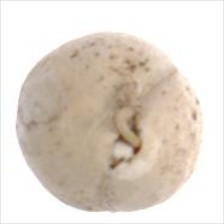L3: (106, 102, 148, 173)
L4: (17, 32, 202, 212)
